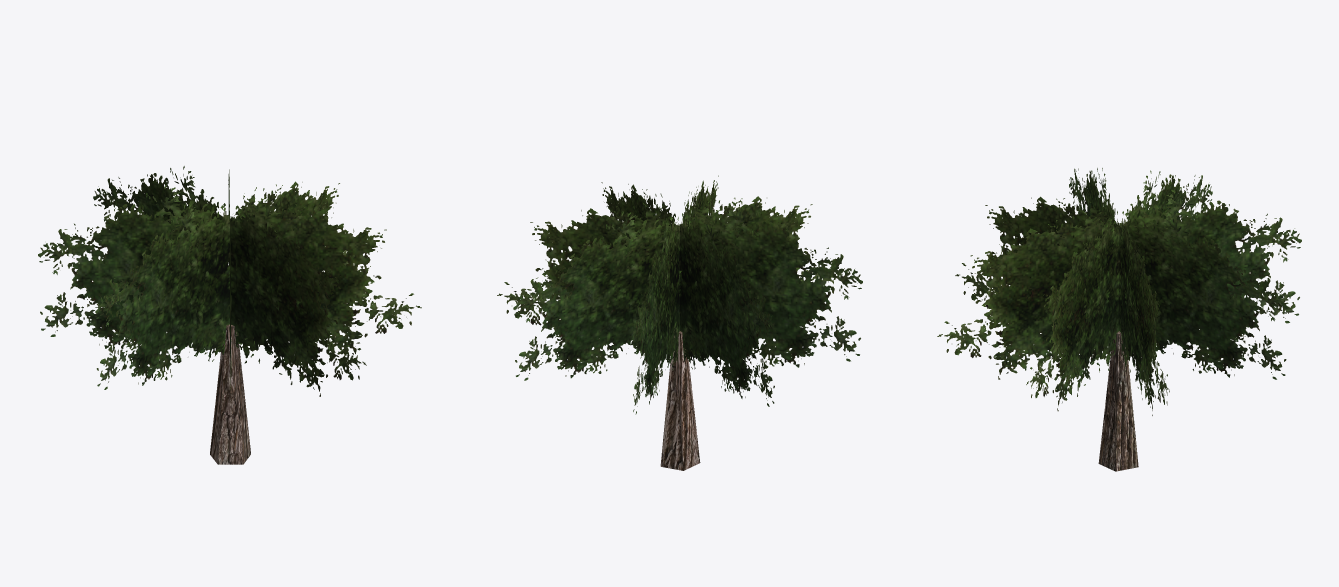
File: TREE_04.fbx
3 views of the same model, side by side, from view 1: azimuth 30°, elevation 25°; view 2: azimuth 150°, elevation 25°; view 3: azimuth 270°, elevation 25° (orthographic).
Visible parts, largest first — view 1: TREE_04; view 2: TREE_04; view 3: TREE_04.
Boxes of the visible parts, box(x1,y1,x2,y2) form: TREE_04: box(38, 166, 421, 464); TREE_04: box(497, 175, 862, 470); TREE_04: box(937, 168, 1301, 471).
Size of the model in its own units: 500 by 519 by 500.
